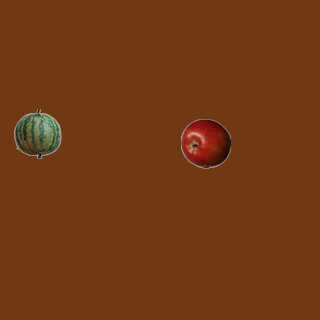Apple Braeburn: (180, 118, 230, 168)
Watermelon: (12, 108, 62, 158)
